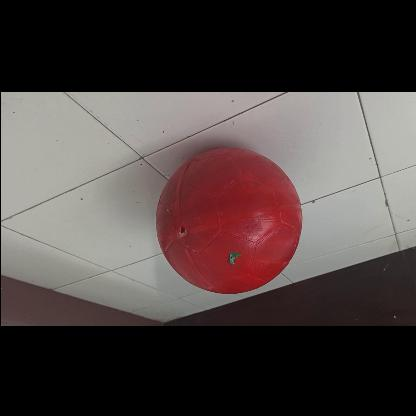red_ball: (157, 145, 306, 294)
